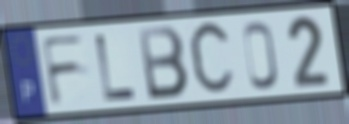0: (242, 20, 280, 92)
2: (288, 13, 335, 92)
B: (135, 24, 191, 103)
C: (186, 17, 237, 101)
F: (38, 32, 88, 109)
L: (93, 31, 139, 103)
